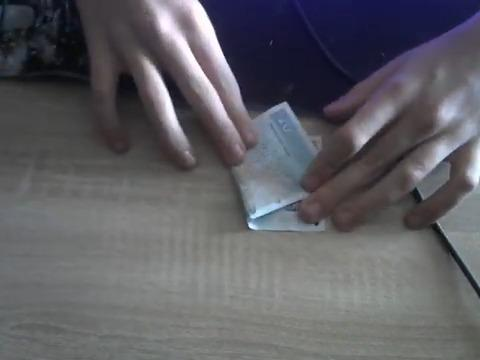20leva: (229, 102, 326, 233)
